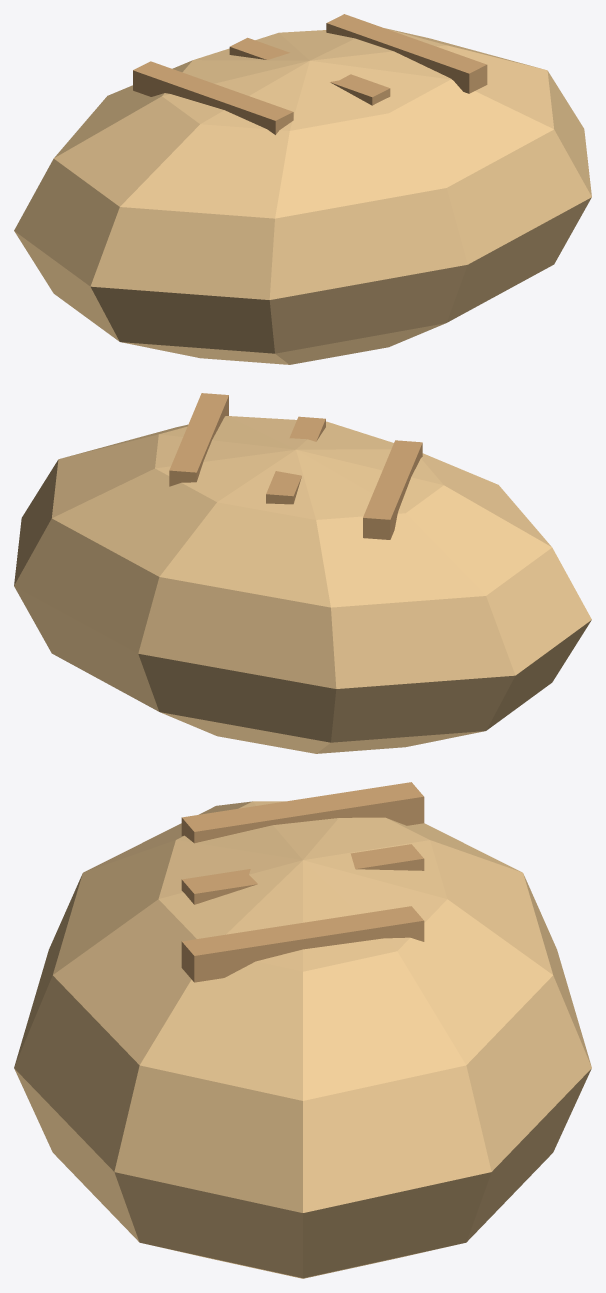
Rendered from item_bread.glb.
3 renders of one model, top to bottom at view 1: azimuth 30°, elevation 25°; view 2: azimuth 150°, elevation 25°; view 3: azimuth 270°, elevation 25°, orthographic. The views are drawn at different scales.
Parts seen in each view (by area): view 1: loaf, cut-1, cut1, cut0; view 2: loaf, cut-1, cut1, cut0; view 3: loaf, cut1, cut-1, cut0.
Boxes of the visible parts, <box> form: loaf: <box>14,28,591,364</box>; cut-1: <box>133,61,293,134</box>; cut1: <box>326,14,487,93</box>; cut0: <box>229,37,390,105</box>; loaf: <box>14,416,591,753</box>; cut-1: <box>363,440,422,539</box>; cut1: <box>169,393,228,486</box>; cut0: <box>266,416,325,504</box>; loaf: <box>14,801,591,1278</box>; cut1: <box>181,906,424,982</box>; cut-1: <box>181,782,424,843</box>; cut0: <box>181,844,424,904</box>.
Size of the model in its own units: 0.3297 by 0.16 by 0.2364.
